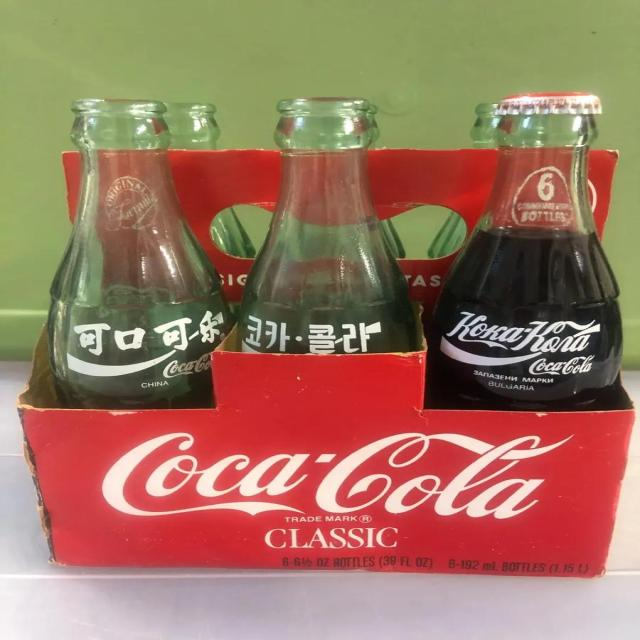glass bottle: (426, 90, 629, 411), (47, 97, 236, 409), (230, 97, 423, 356)
